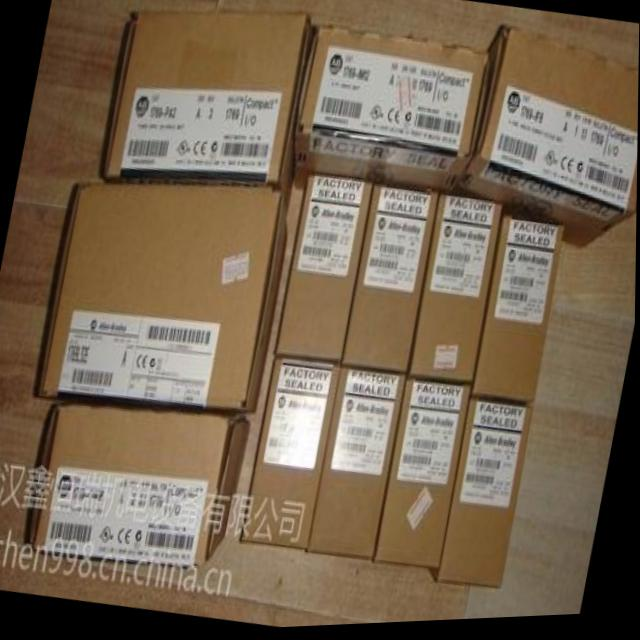box: (39, 181, 289, 413), (453, 28, 639, 256), (103, 14, 311, 214), (28, 395, 252, 571), (293, 30, 490, 198), (430, 400, 534, 593), (241, 358, 342, 554), (309, 367, 408, 564), (274, 180, 374, 366), (376, 377, 472, 570), (342, 188, 440, 377), (408, 197, 504, 389), (470, 220, 564, 410)
